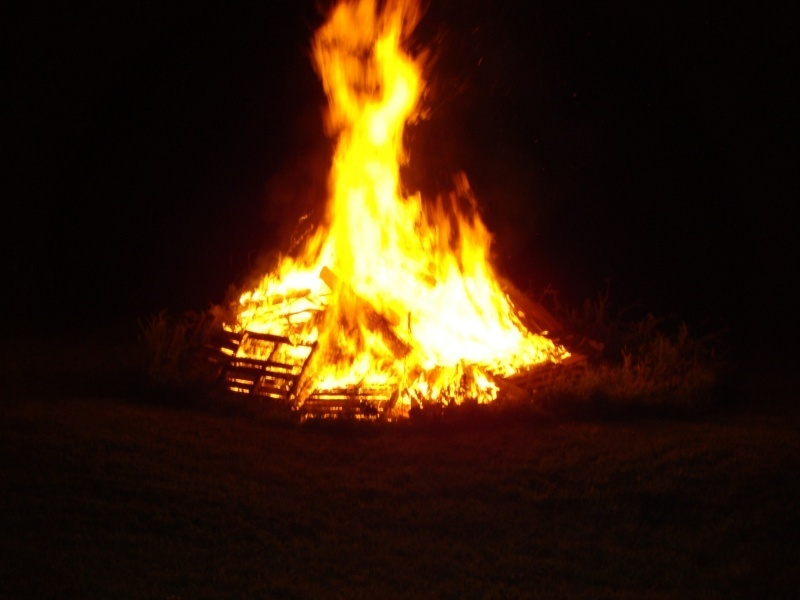fire: (215, 0, 567, 428)
